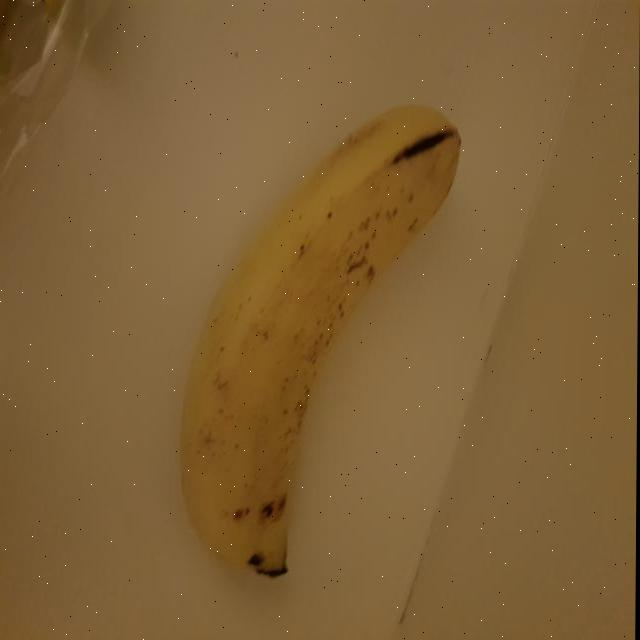banana: (169, 93, 472, 597)
